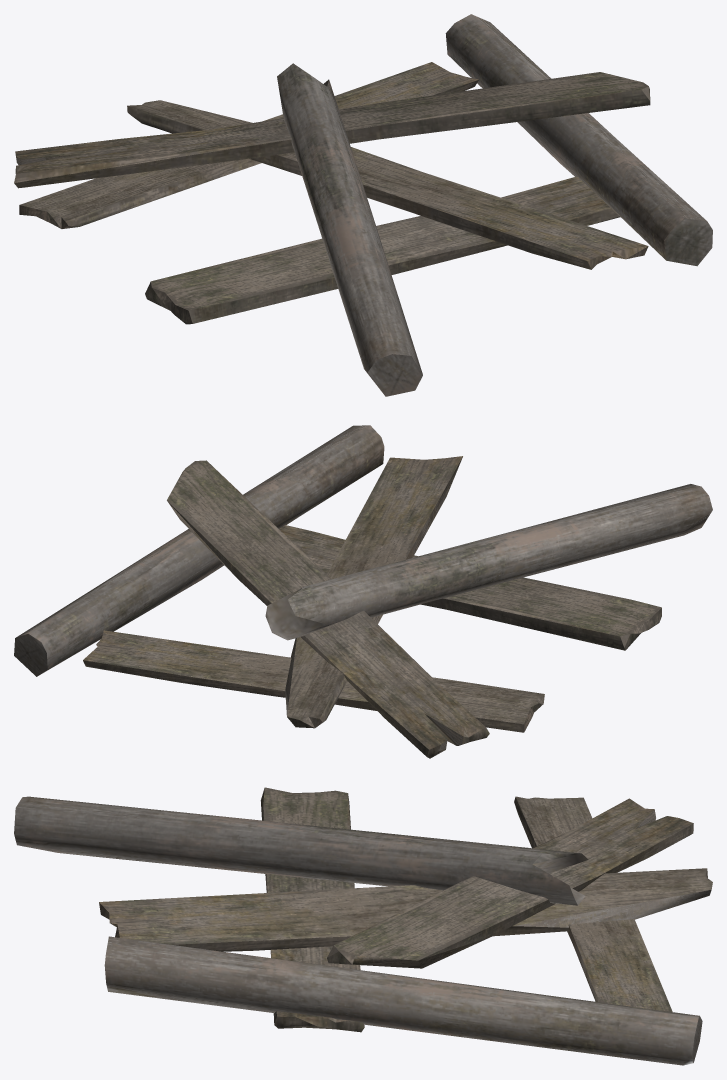
Rendered from SM_Wood_planks_5.fbx.
3 renders of one model, top to bottom at view 1: azimuth 30°, elevation 25°; view 2: azimuth 150°, elevation 25°; view 3: azimuth 270°, elevation 25°, orthographic. The views are drawn at different scales.
Parts seen in each view (by area): view 1: SM_Wood_planks_5_LOD0; view 2: SM_Wood_planks_5_LOD0; view 3: SM_Wood_planks_5_LOD0.
Boxes of the visible parts, x1,y1,x2,y2 form: SM_Wood_planks_5_LOD0: (14, 14, 712, 396); SM_Wood_planks_5_LOD0: (14, 425, 712, 758); SM_Wood_planks_5_LOD0: (14, 787, 712, 1065).
Bounding box in the file's own units: 169 × 198 × 35.22.
